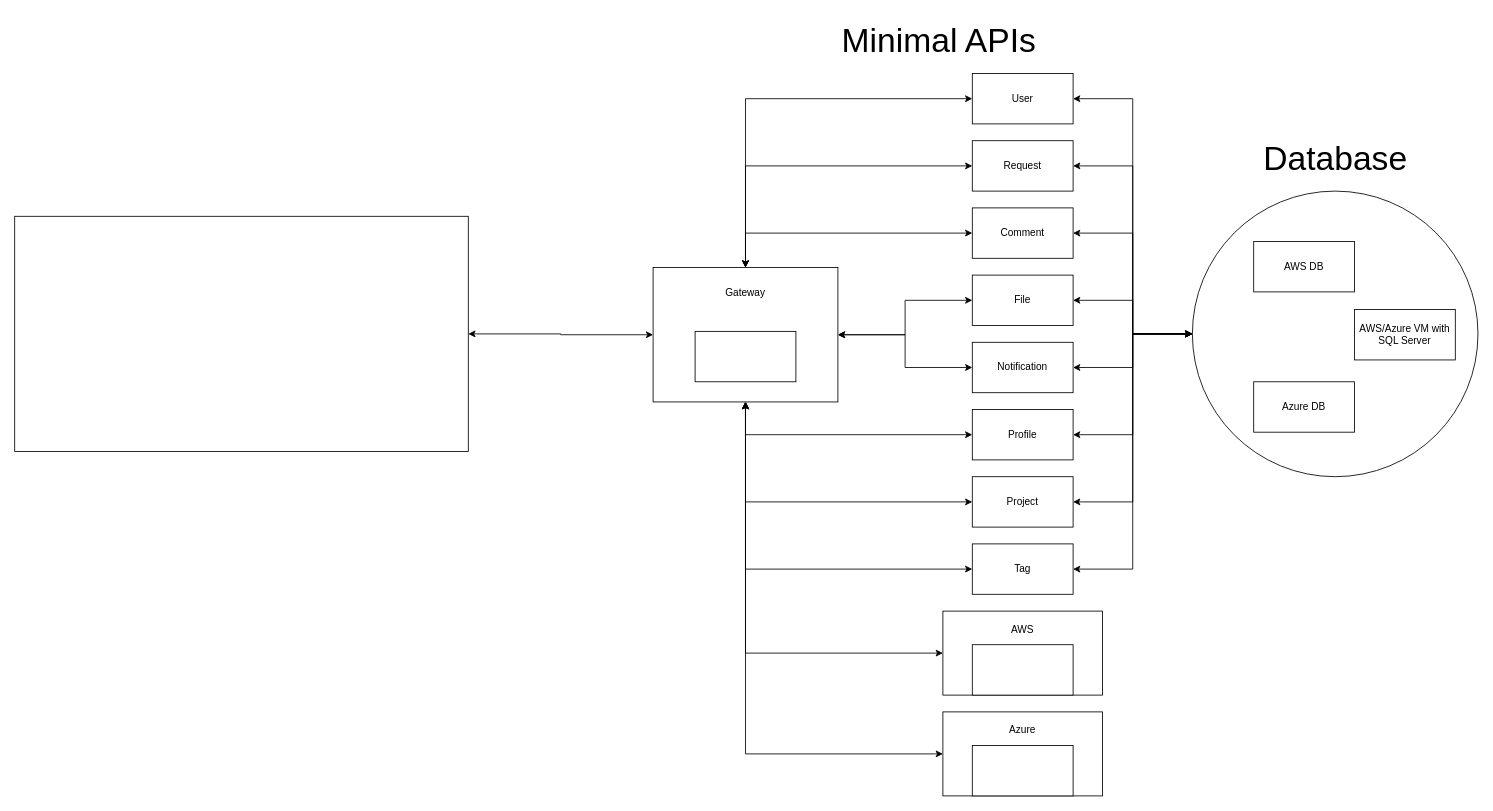
This 1493x811 diagram has some shape labels left out. The shapes that lost their labels are listed below. From the top down, each one's centre as x and y in pixels, then its label:
At pixel 241 333: "Frontend".
At pixel 745 356: "Bearer Token /login/{ApiToken}".
At pixel 1022 669: "S3".
At pixel 1022 770: "Blob".
